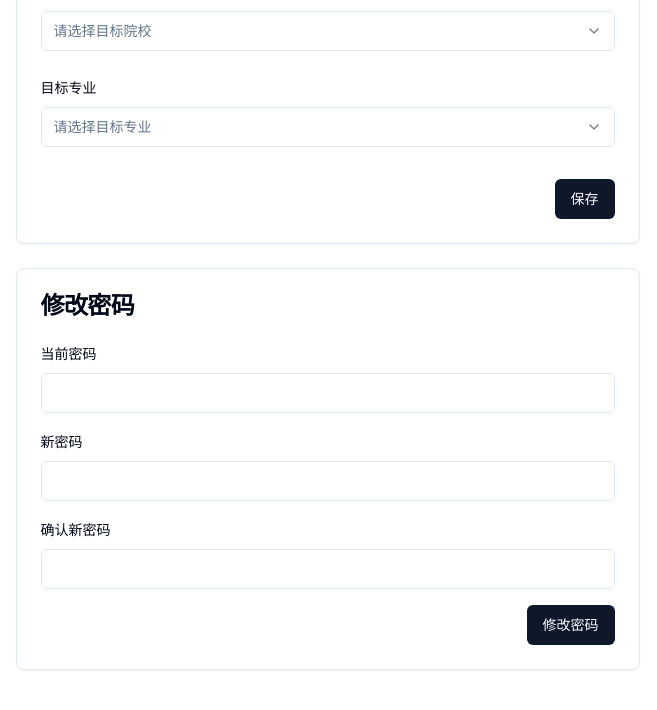
Test case: StudentProfilePage password change › blocks submission when confirmation does not match
(page scrolled)
In the password field labelled "当前密码": (328, 393) [40, 373, 614, 413], type "old-pass"
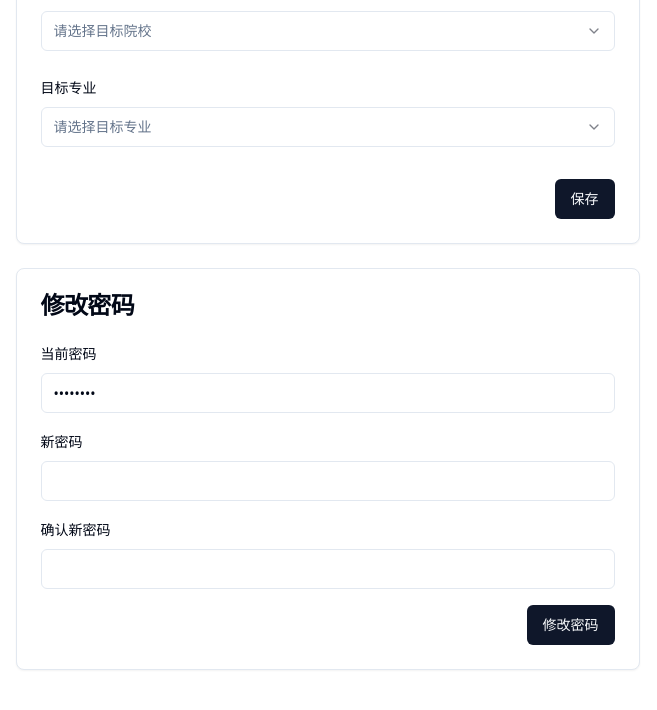
In the password field labelled "新密码": (328, 481) [40, 461, 614, 501], type "new-pass-123"
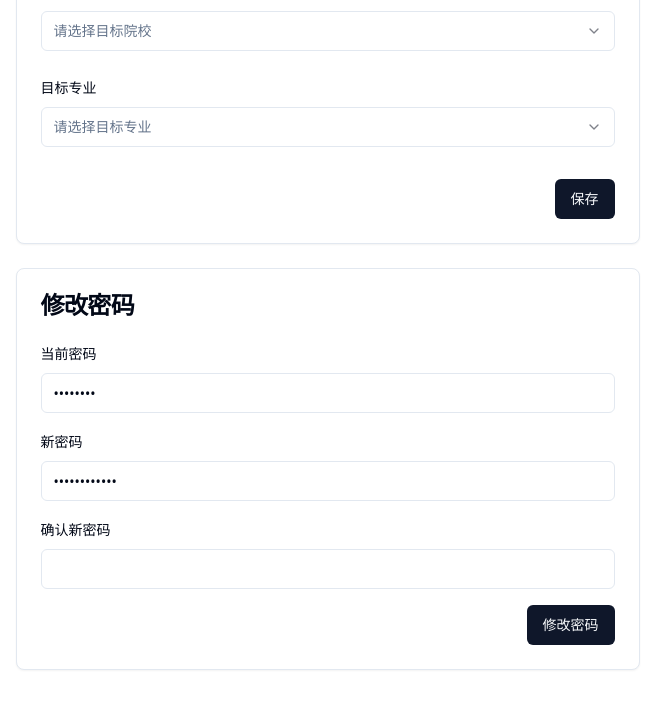
In the password field labelled "确认新密码": (328, 569) [40, 549, 614, 589], type "wrong-confirm"
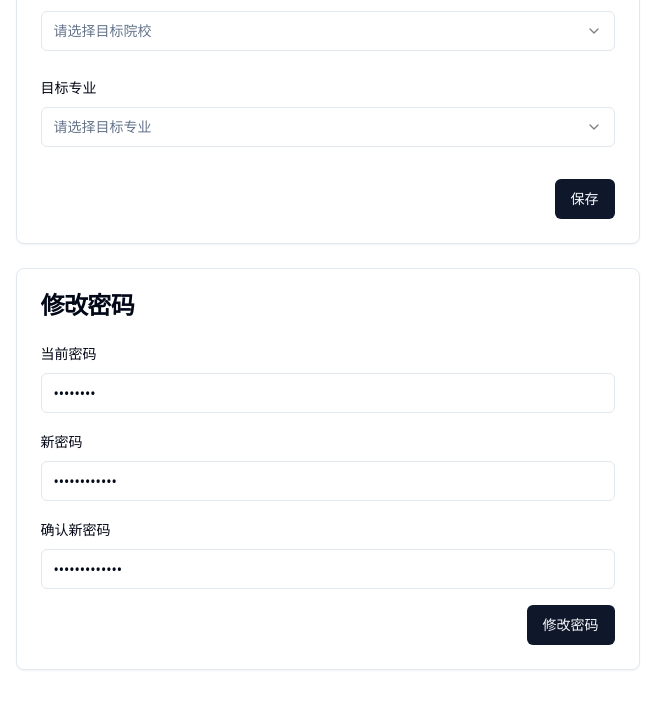
Click the button "修改密码": (570, 625) [526, 605, 614, 645]
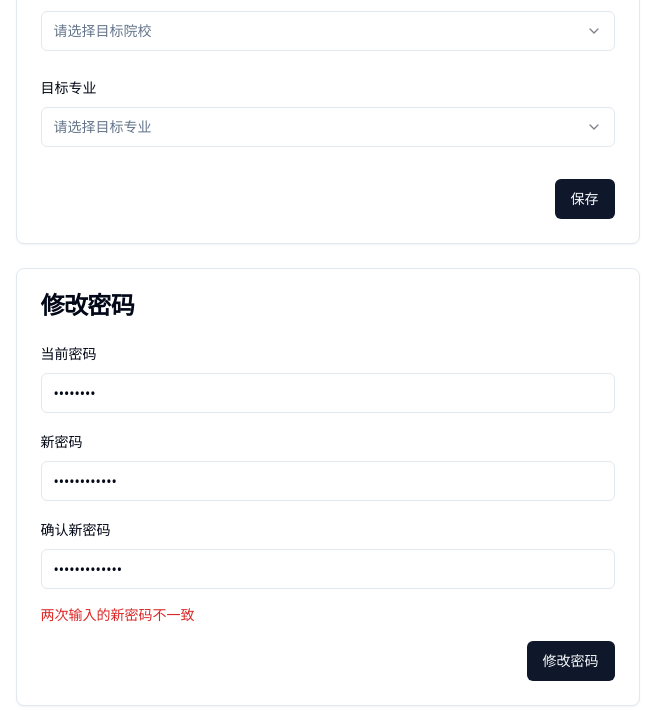
expect the text "两次输入的新密码不一致" is shown: met, box [40, 605, 194, 624]
